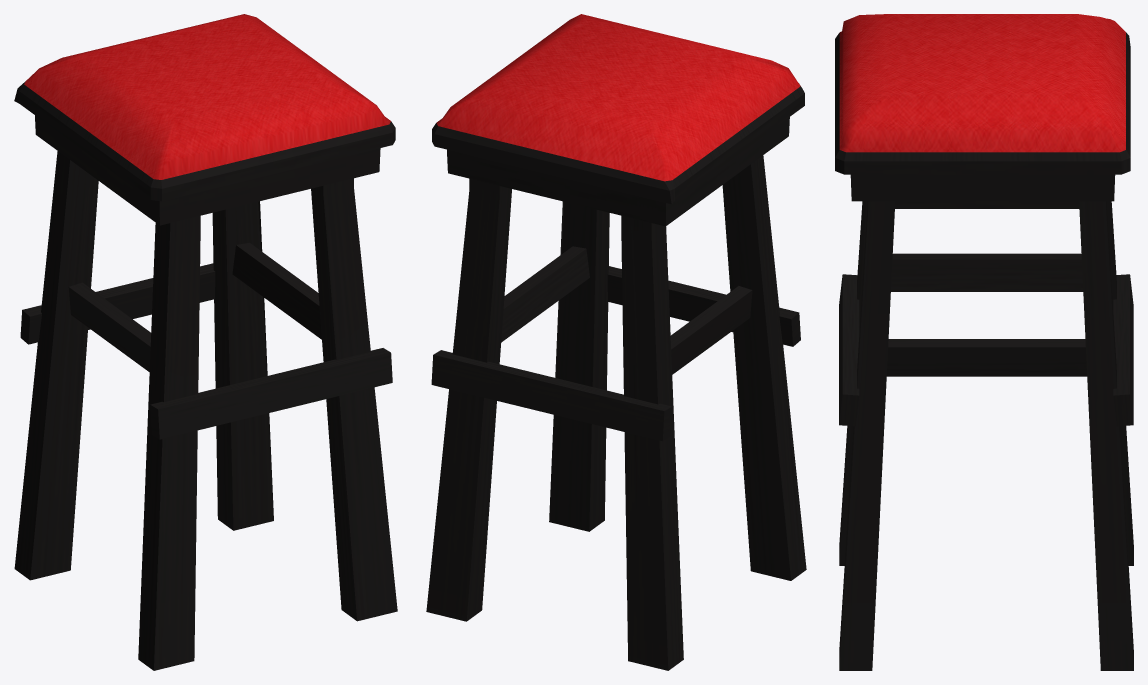
The model's file is Barstool_B.FBX.
3 renders of one model, left to right at view 1: azimuth 30°, elevation 25°; view 2: azimuth 150°, elevation 25°; view 3: azimuth 270°, elevation 25°, orthographic. The views are drawn at different scales.
Parts seen in each view (by area): view 1: Bar_Stool; view 2: Bar_Stool; view 3: Bar_Stool.
Part boxes in pixels (left/top/right/bottom): Bar_Stool: left=14, top=14, right=397, bottom=670; Bar_Stool: left=426, top=14, right=806, bottom=670; Bar_Stool: left=835, top=14, right=1133, bottom=670.
Size of the model in its own units: 85.32 by 174 by 84.9.
